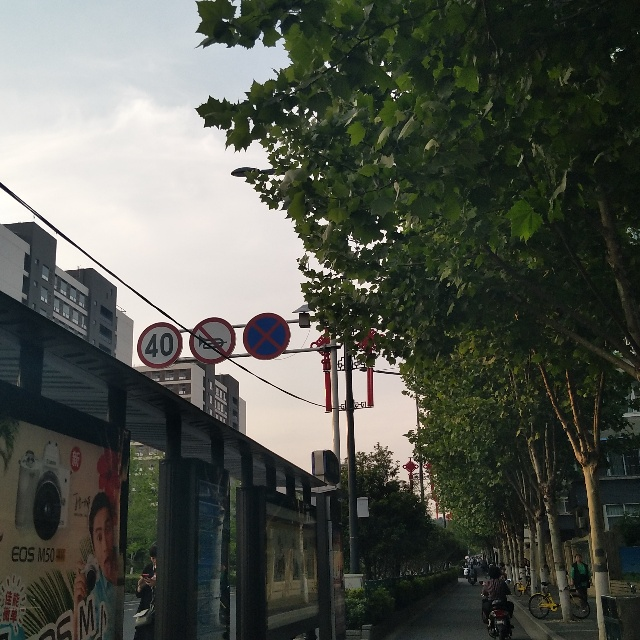nohonk: (191, 320, 231, 362)
stop: (243, 314, 287, 359)
